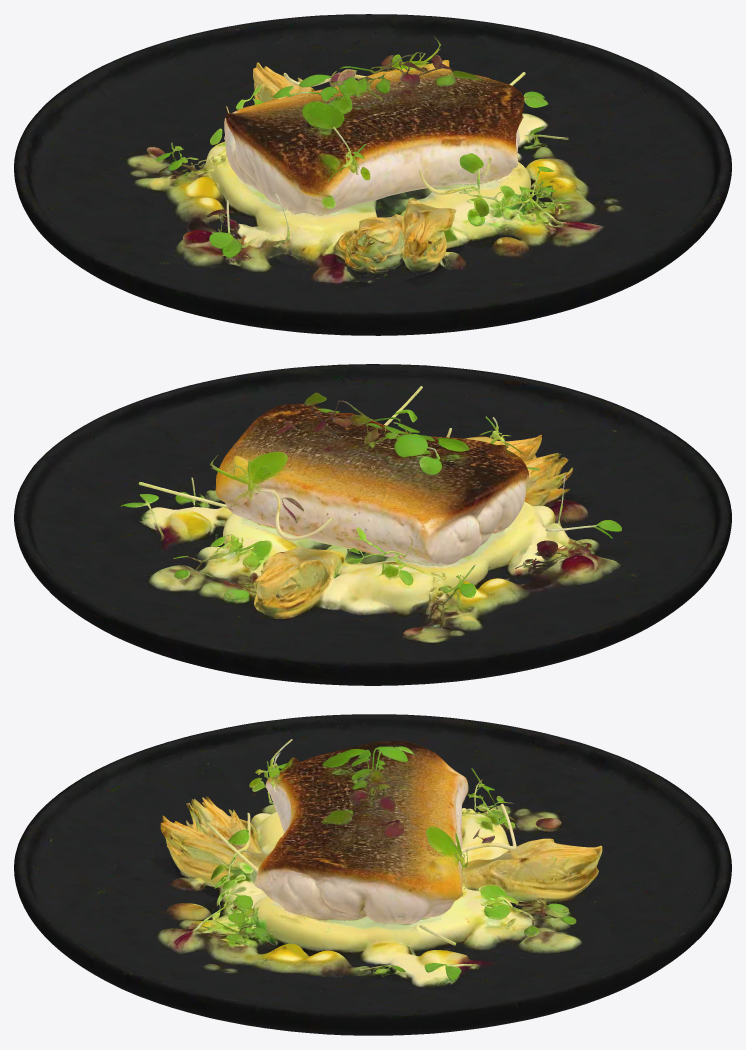
The model's file is bar-de-ligne-meshopt-e67c9019.glb.
3 renders of one model, top to bottom at view 1: azimuth 30°, elevation 25°; view 2: azimuth 150°, elevation 25°; view 3: azimuth 270°, elevation 25°, orthographic.
Size of the model in its own units: 1.9 by 0.506 by 1.9.
1 material, 1 textured.
